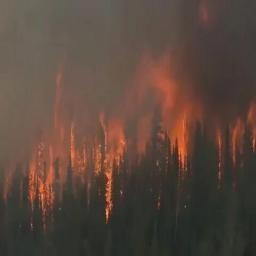Heavy smoke: (2, 0, 252, 120)
Large fire: (23, 99, 256, 212)
